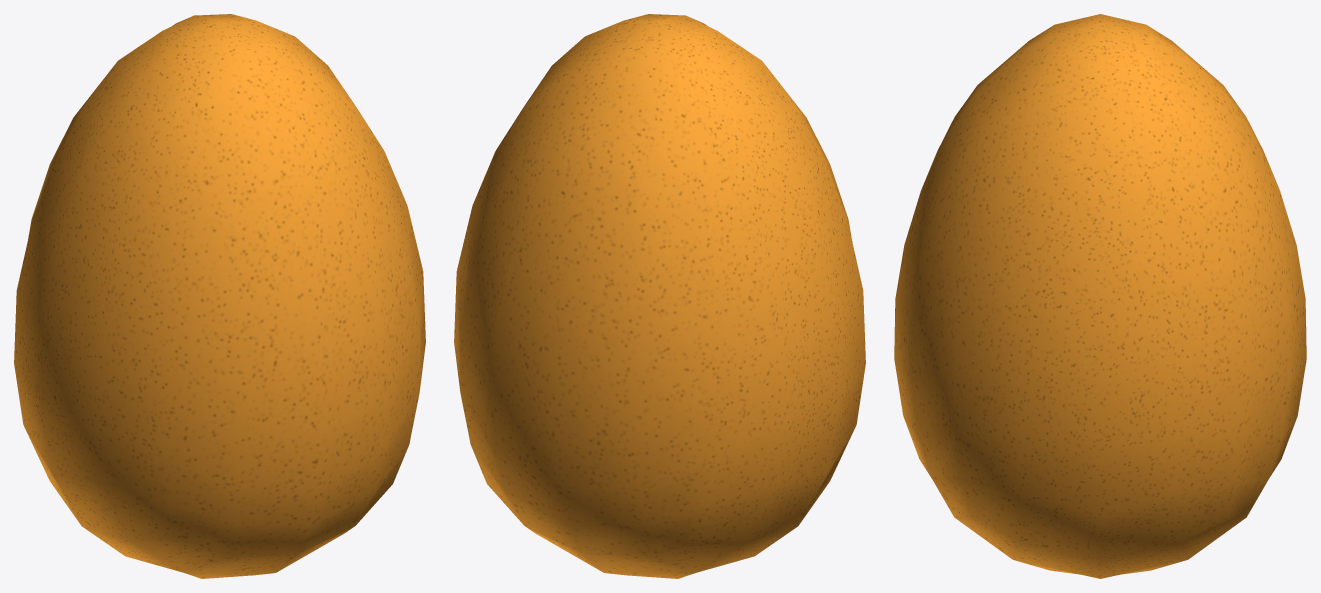
Rendered from egg.glb.
3 views of the same model, side by side, from view 1: azimuth 30°, elevation 25°; view 2: azimuth 150°, elevation 25°; view 3: azimuth 270°, elevation 25° (orthographic).
Parts seen in each view (by area): view 1: egg; view 2: egg; view 3: egg.
Part boxes in pixels (x1=…): egg: x1=14, y1=14, x2=425, y2=578; egg: x1=454, y1=14, x2=865, y2=578; egg: x1=894, y1=14, x2=1306, y2=578.
Bounding box in the file's own units: 0.4057 × 0.5811 × 0.4042.
Materials: 1 (1 with a texture image).
